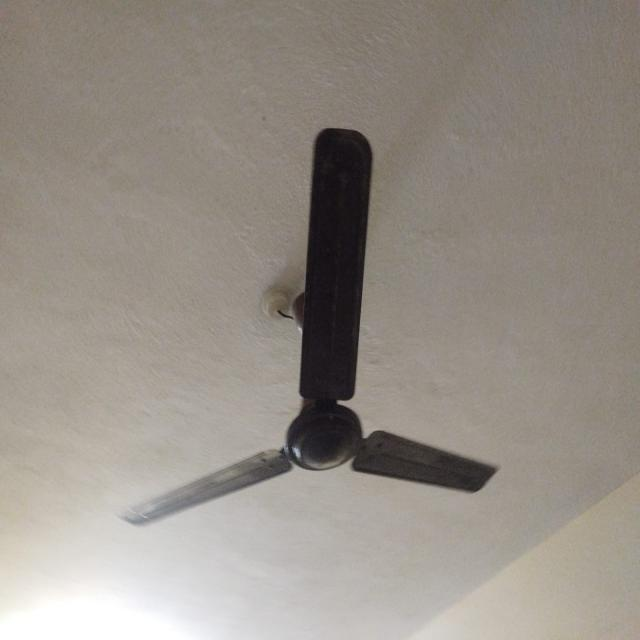fan_off: (122, 125, 499, 529)
